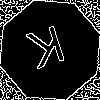K: (25, 25, 71, 78)
